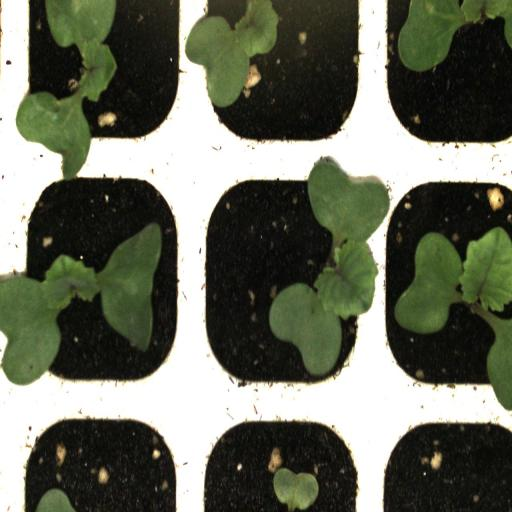seedling: (190, 161, 376, 396), (8, 162, 190, 396), (377, 161, 512, 399), (11, 0, 190, 160)
